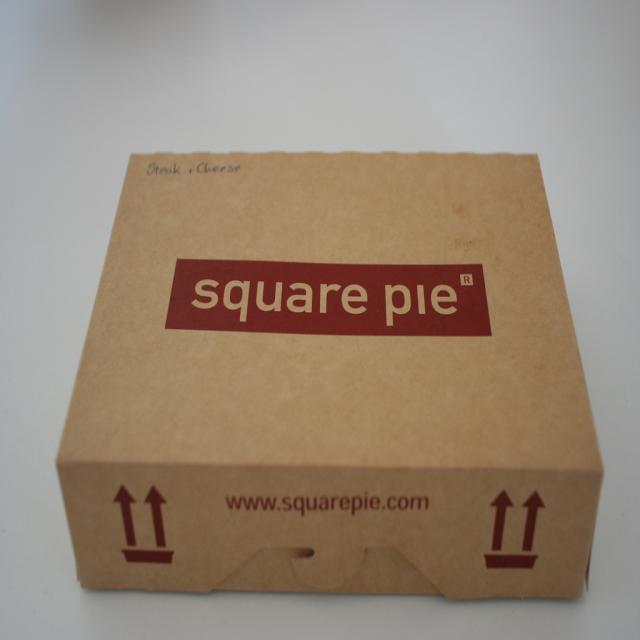Box: (55, 152, 606, 600)
